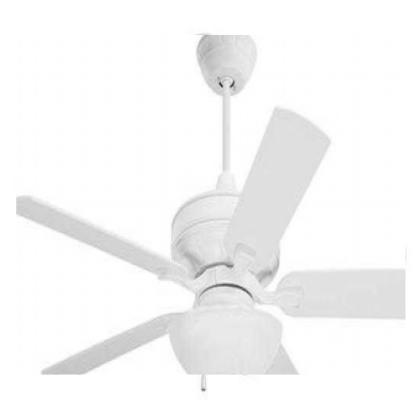ceiling-fan: (16, 35, 406, 375)
